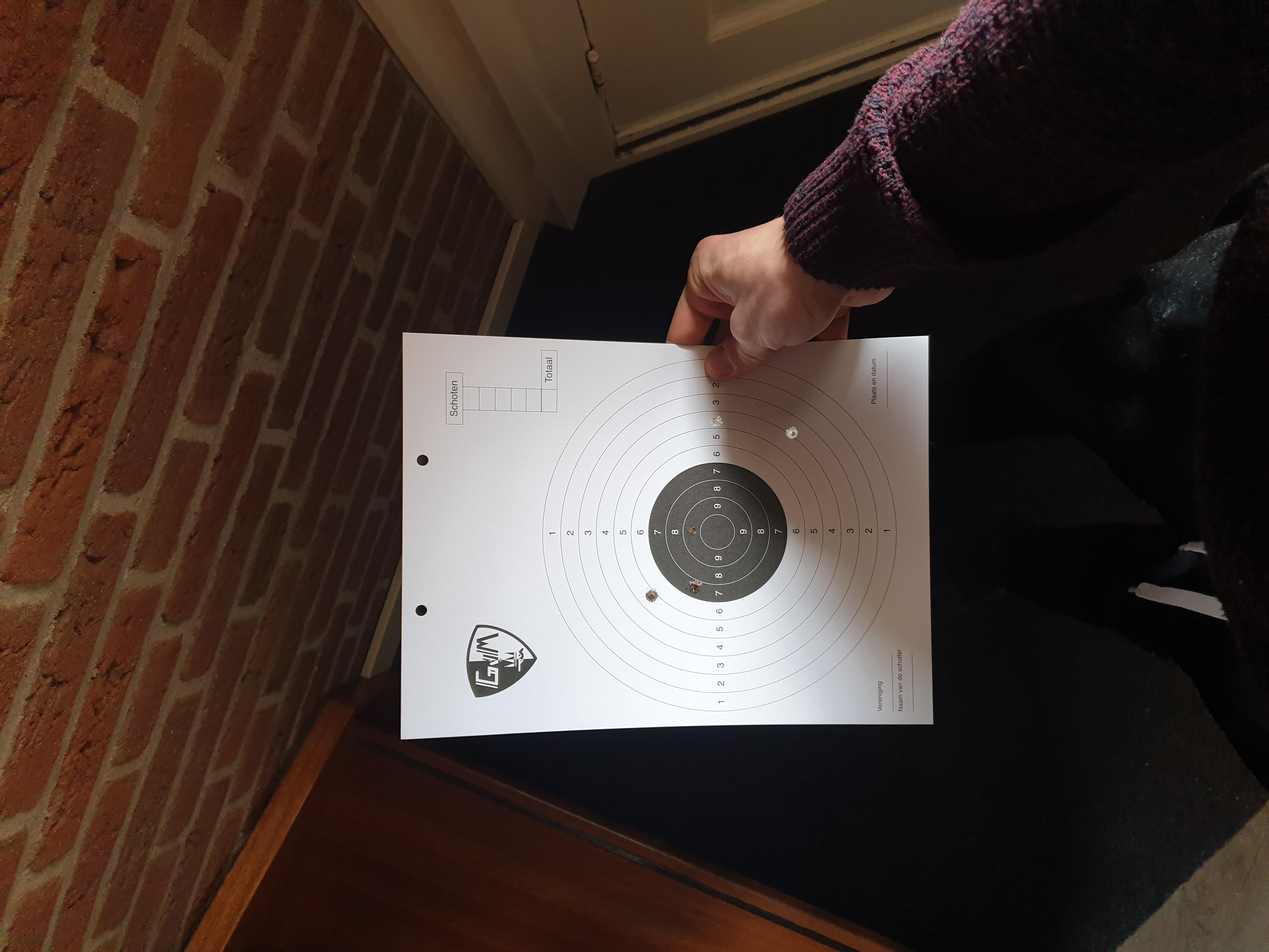hole: (686, 580, 703, 593), (645, 589, 659, 602), (786, 426, 798, 439), (685, 524, 696, 537), (711, 416, 722, 427)
